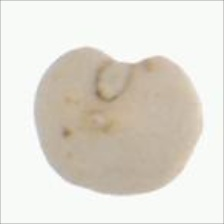L5: (53, 166, 152, 200), (93, 54, 139, 104)
L6: (31, 42, 209, 199)
